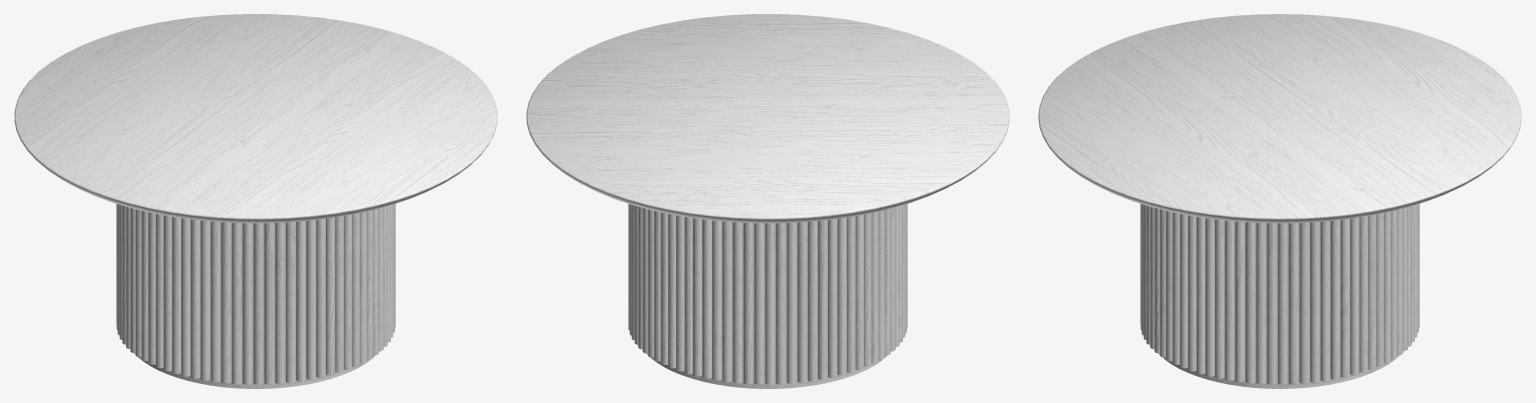
File: coffeeTable_MaruOakPedestal.fbx
3 views of the same model, side by side, from view 1: azimuth 30°, elevation 25°; view 2: azimuth 150°, elevation 25°; view 3: azimuth 270°, elevation 25° (orthographic).
Parts seen in each view (by area): view 1: geo_coffeeTable_MaruOakPedestal_LOD0; view 2: geo_coffeeTable_MaruOakPedestal_LOD0; view 3: geo_coffeeTable_MaruOakPedestal_LOD0.
Part boxes in pixels (x1=…): geo_coffeeTable_MaruOakPedestal_LOD0: x1=14, y1=14, x2=497, y2=388; geo_coffeeTable_MaruOakPedestal_LOD0: x1=526, y1=14, x2=1009, y2=388; geo_coffeeTable_MaruOakPedestal_LOD0: x1=1038, y1=14, x2=1521, y2=388.
Size of the model in its own units: 0.8 by 0.3992 by 0.8.
Materials: 1 (1 with a texture image).
